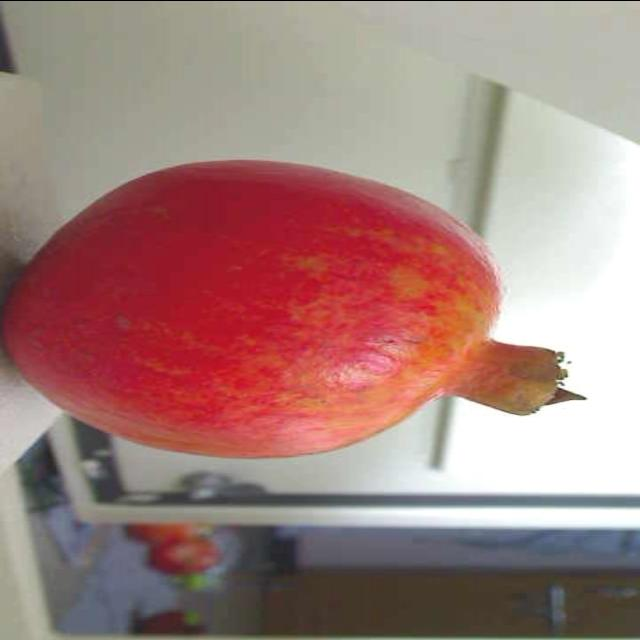pomegranate: (0, 140, 600, 468)
